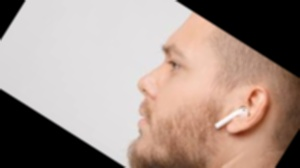earphone: (213, 76, 276, 147)
